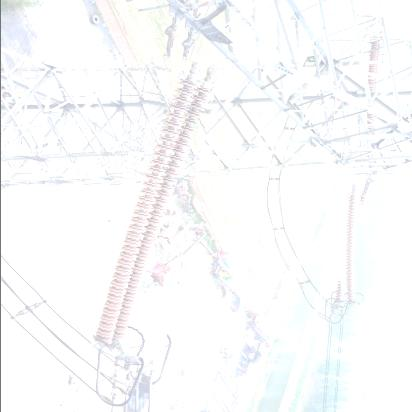insulator: (105, 55, 206, 360), (327, 186, 376, 307)
